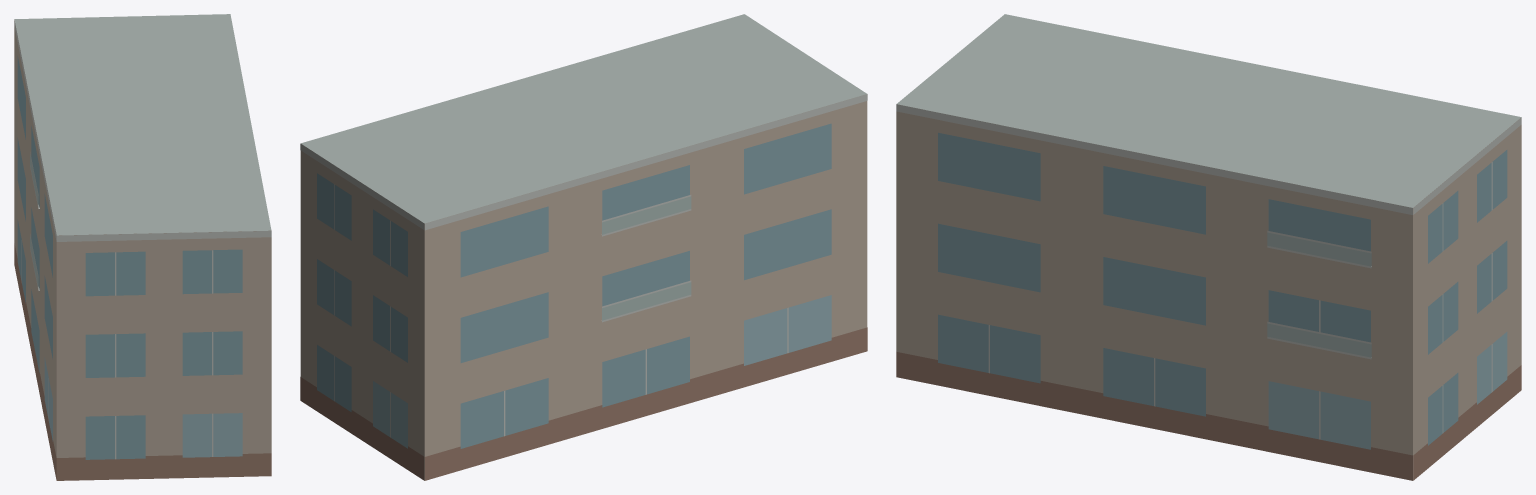
File: survey-upis-32705017.glb
3 views of the same model, side by side, from view 1: azimuth 30°, elevation 25°; view 2: azimuth 150°, elevation 25°; view 3: azimuth 270°, elevation 25° (orthographic). The views are drawn at different scales.
Parts seen in each view (by area): view 1: survey-upis-32705017.tmp; view 2: survey-upis-32705017.tmp; view 3: survey-upis-32705017.tmp.
Boxes of the visible parts, box(x1,y1,x2,y2) form: survey-upis-32705017.tmp: box(14, 14, 271, 480); survey-upis-32705017.tmp: box(300, 14, 867, 480); survey-upis-32705017.tmp: box(896, 14, 1521, 480).
Bounding box in the file's own units: 13.95 × 9.15 × 19.01.
